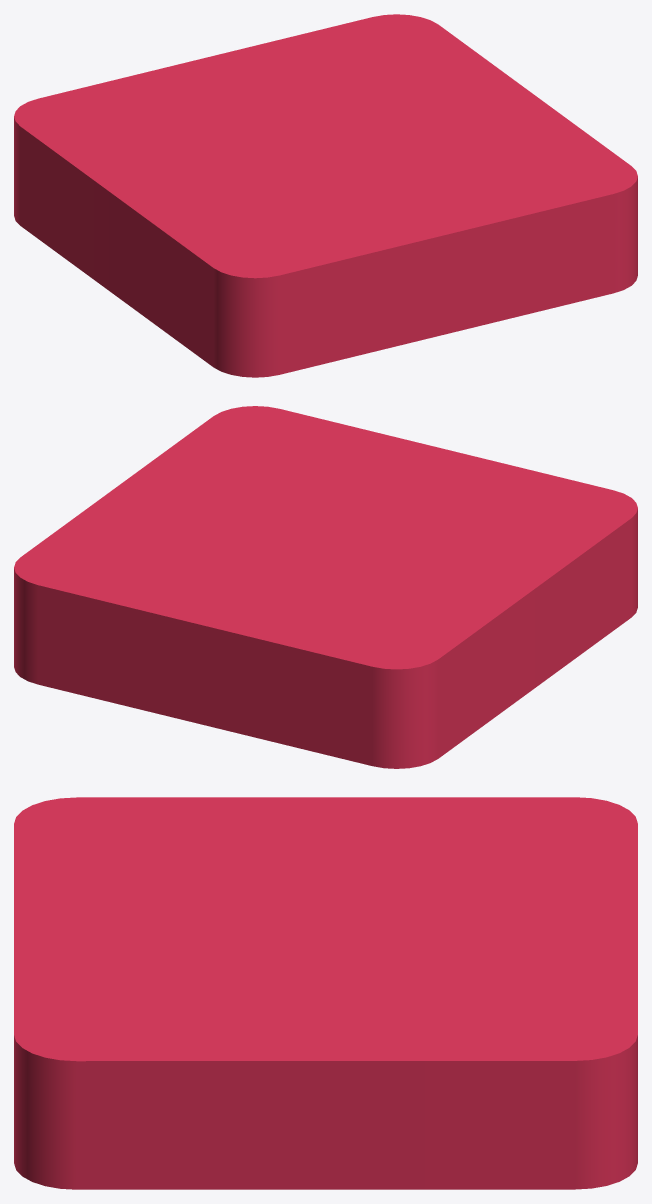
The model's file is B_ecrin_haut.gltf.
The picture shows the model from 3 angles, top to bottom: view 1: azimuth 30°, elevation 25°; view 2: azimuth 150°, elevation 25°; view 3: azimuth 270°, elevation 25°; orthographic projection. The views are drawn at different scales.
Parts seen in each view (by area): view 1: objetHaut; view 2: objetHaut; view 3: objetHaut.
Part boxes in pixels (box(x1,y1,x2,y2)): objetHaut: box(14, 14, 637, 377); objetHaut: box(14, 406, 637, 768); objetHaut: box(14, 797, 637, 1189).
Bounding box in the file's own units: 2.55 × 0.5811 × 2.55.
